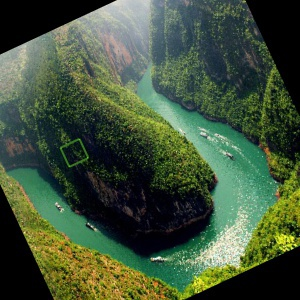square: (57, 137, 91, 168)
